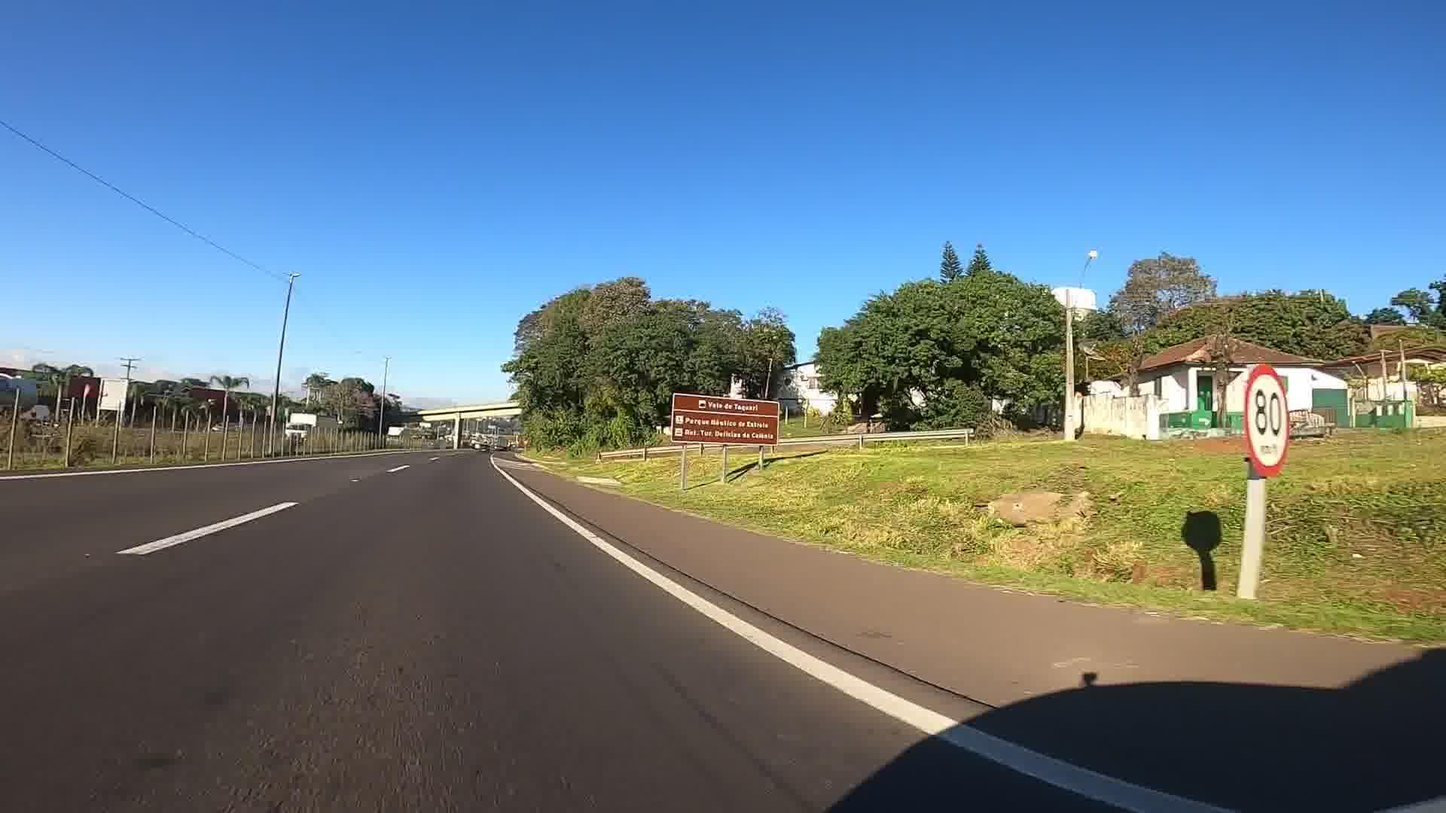R-19: (1241, 355, 1292, 479)
